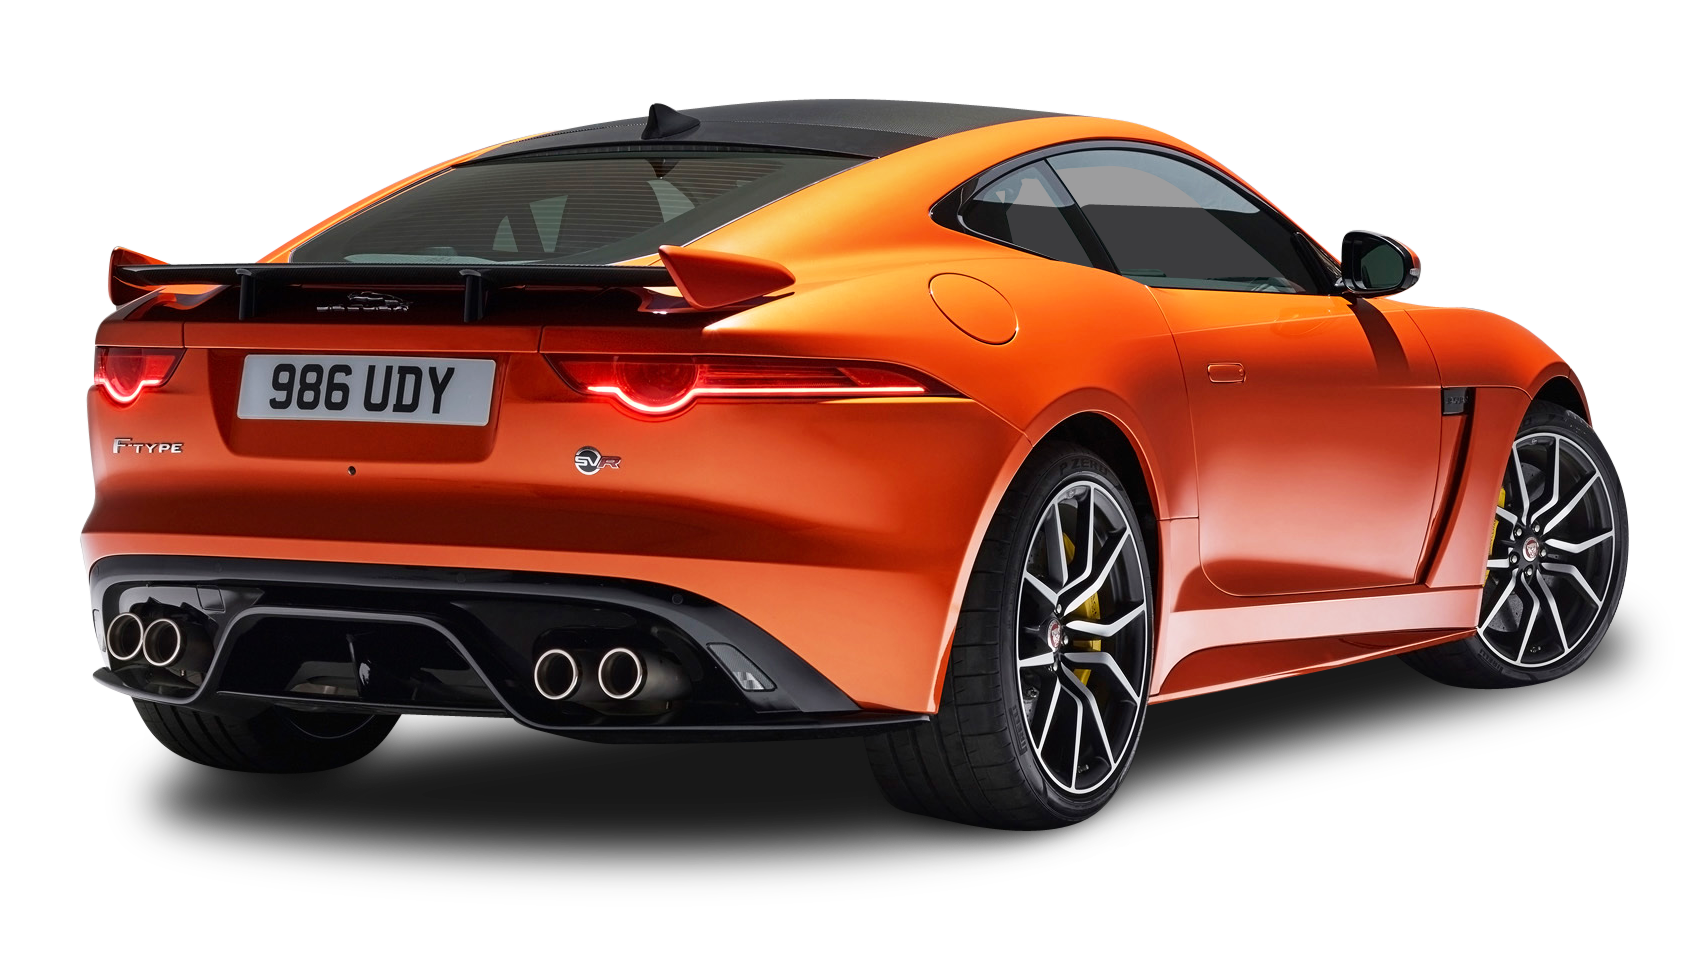P1_: (494, 361, 534, 393)
bbox: (238, 350, 495, 460)
